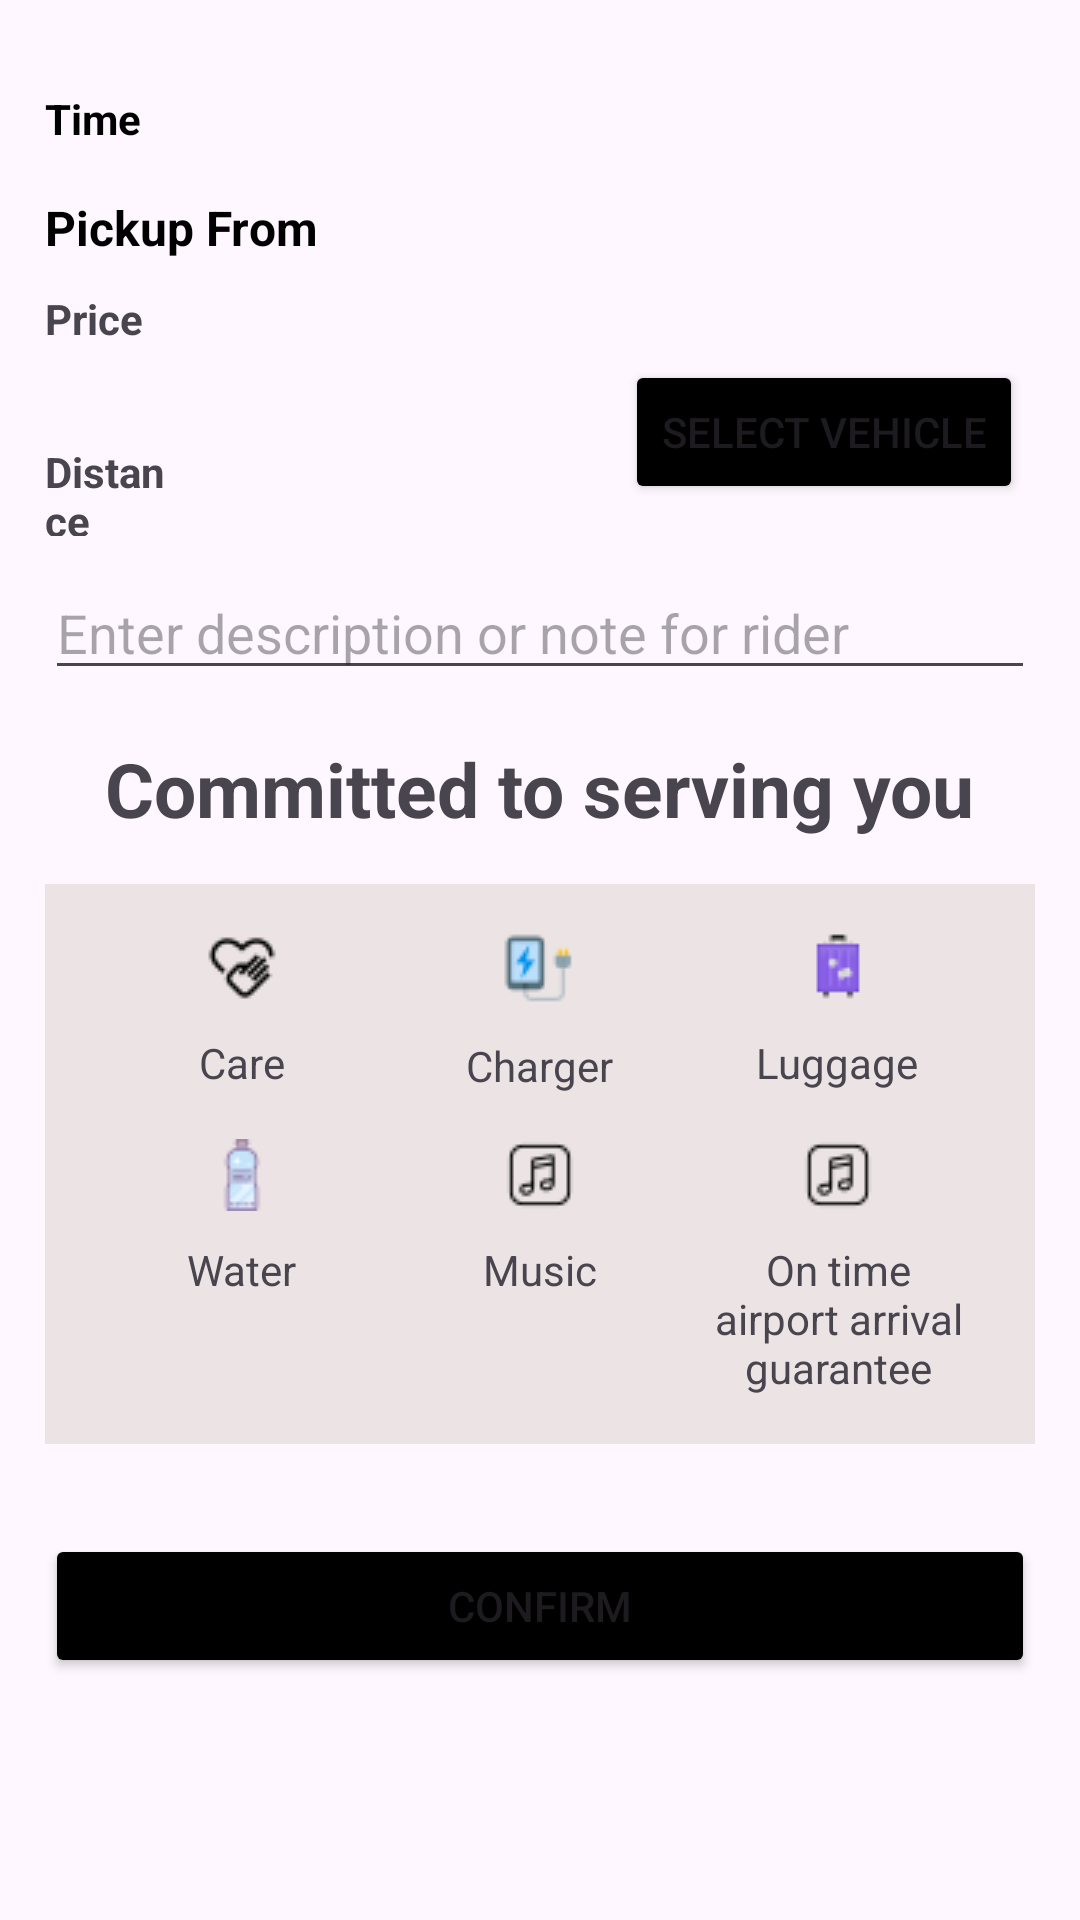

Where icons sit on this 1080*1920 app screen, as (x1,y1,x2,y2):
charging: (505,935,572,1001)
